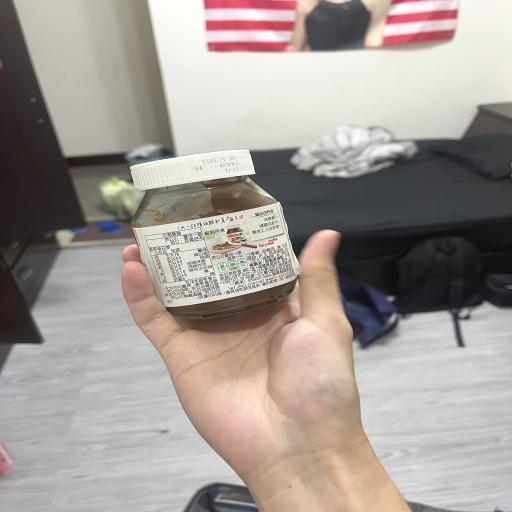chocolate_jar: (131, 150, 298, 319)
